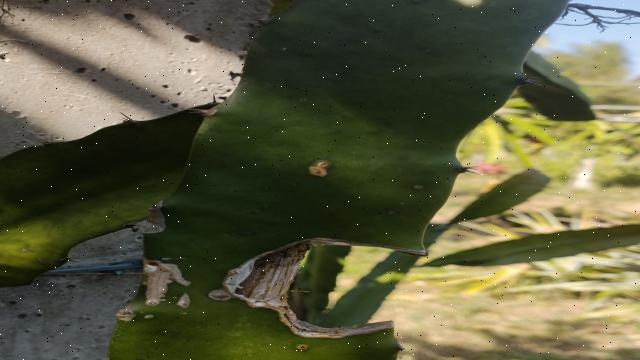stemcanker: (306, 155, 334, 182), (203, 285, 236, 304), (173, 290, 194, 311), (290, 341, 314, 355)
